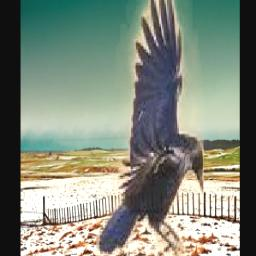Crow: (96, 0, 204, 256)
